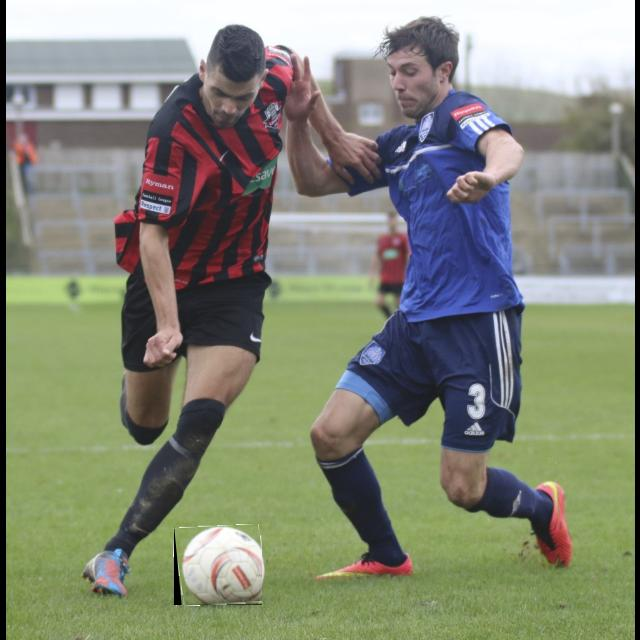Football: (174, 525, 262, 605)
